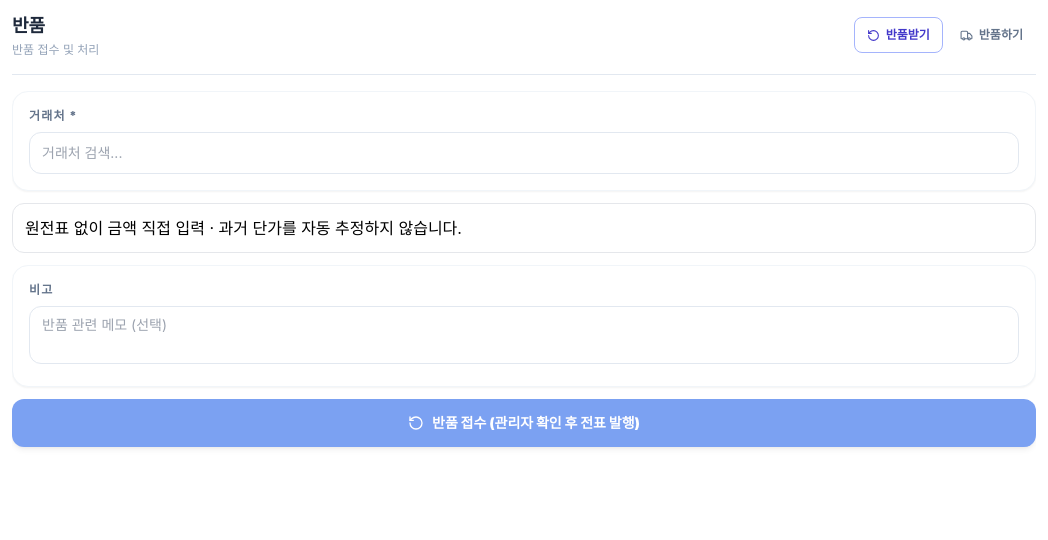
반품받기와 보내기 탭은 헤더에 있고 작성 검색은 각 원래 폼에 남는다
expect the element "반품받기" is shown: met, box [854,17,1036,53]
expect the field with placeholder "거래처 검색..." is shown: met, box [29,132,1019,174]
What coordinates should you click on to do the following:
click the button "반품하기"
I would click on:
 (991, 35)
Its box is [947,17,1036,53].
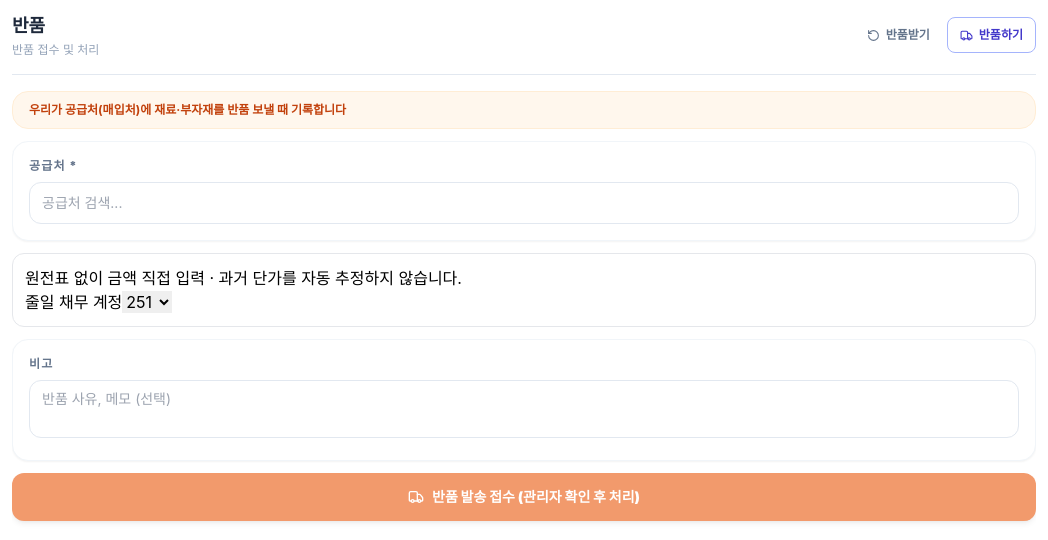
expect the field with placeholder "거래처 검색..." is not shown: met
expect the field with placeholder "공급처 검색..." is shown: met, box [29,182,1019,224]
What coordinates should you click on to do the following:
click the button "반품받기"
I would click on:
 (898, 35)
Its box is [854,17,943,53].
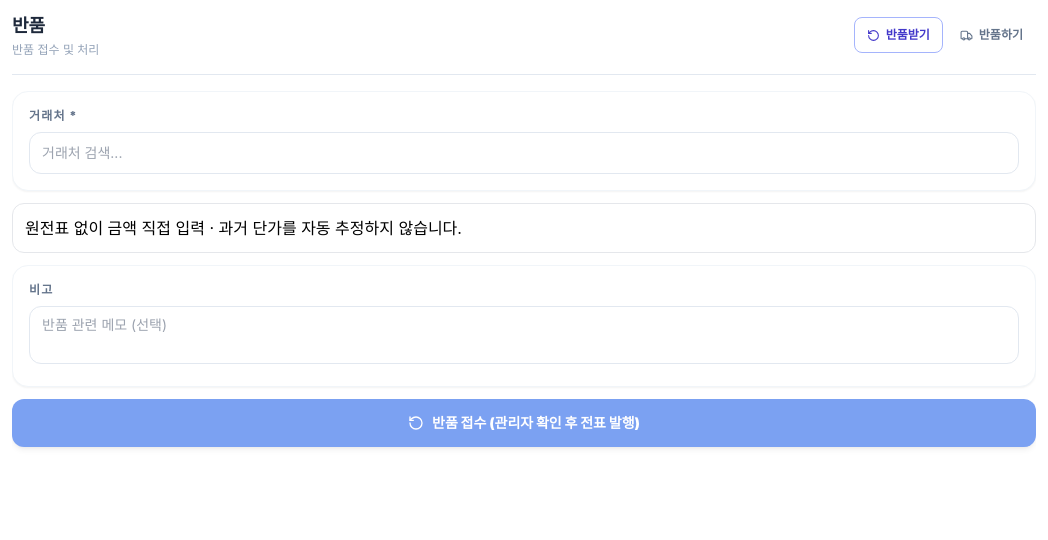
expect the field with placeholder "거래처 검색..." is shown: met, box [29,132,1019,174]
